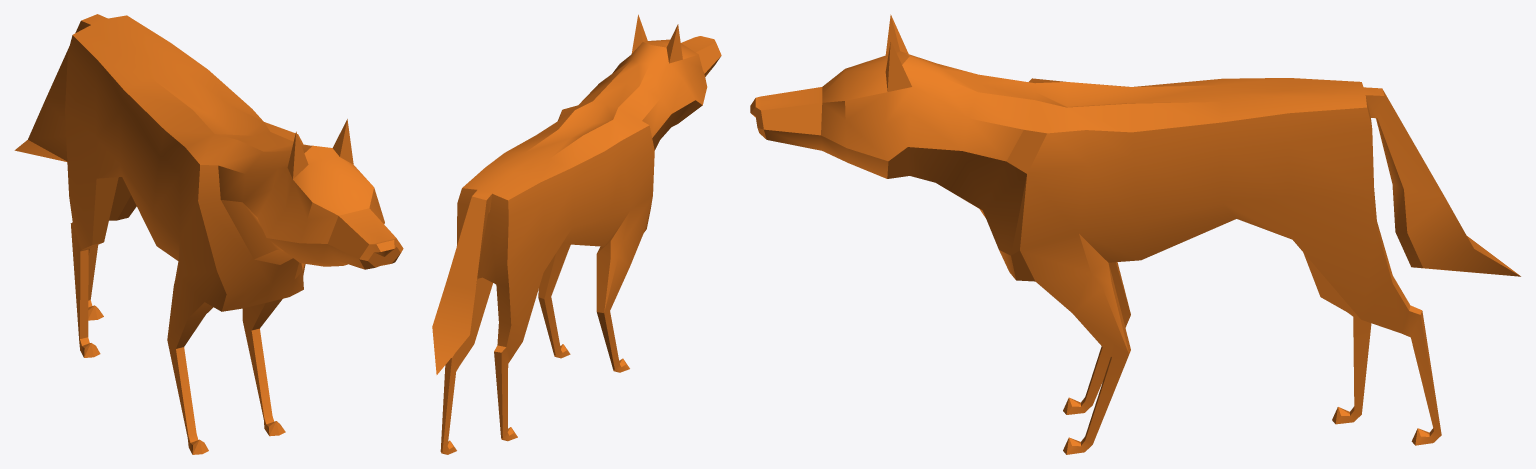
The model's file is Wolf.fbx.
The picture shows the model from 3 angles, left to right: view 1: azimuth 30°, elevation 25°; view 2: azimuth 150°, elevation 25°; view 3: azimuth 270°, elevation 25°; orthographic projection. The views are drawn at different scales.
Parts seen in each view (by area): view 1: Cube; view 2: Cube; view 3: Cube.
Part boxes in pixels (bbox=[...]): Cube: bbox=[14, 14, 403, 454]; Cube: bbox=[432, 14, 721, 454]; Cube: bbox=[750, 14, 1520, 454].
Size of the model in its own units: 35.24 by 106 by 184.
